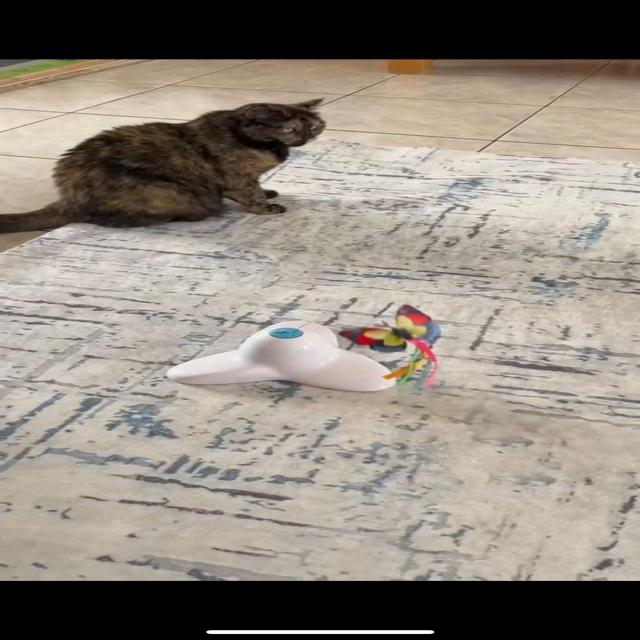authorized: (1, 97, 327, 233)
